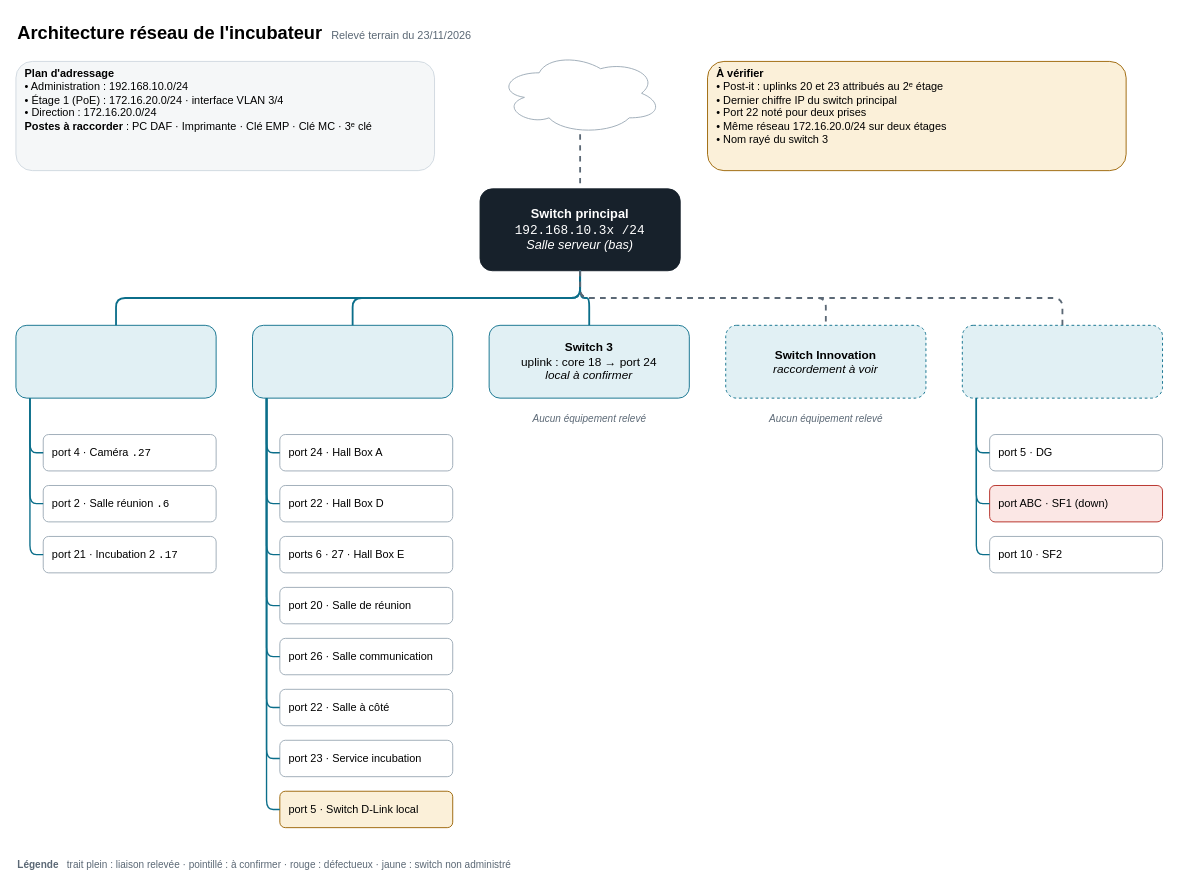
The diagram is 1178 pixels wide and 890 high, and some of its shapes have lost their labels. The box of each missing label's shape, as (x1, y1, x2, y2) in pixels:
Direction 172.16.20.0/24 raccordement à vérifier: (961, 324, 1163, 398)
Internet Routeur / box opérateur: (497, 51, 662, 134)
Switch Étage 1 · PoE uplink : core 20 → port 24: (15, 324, 216, 398)
Switch Étage 2 uplink : core 23 → port 24: (252, 324, 453, 398)
